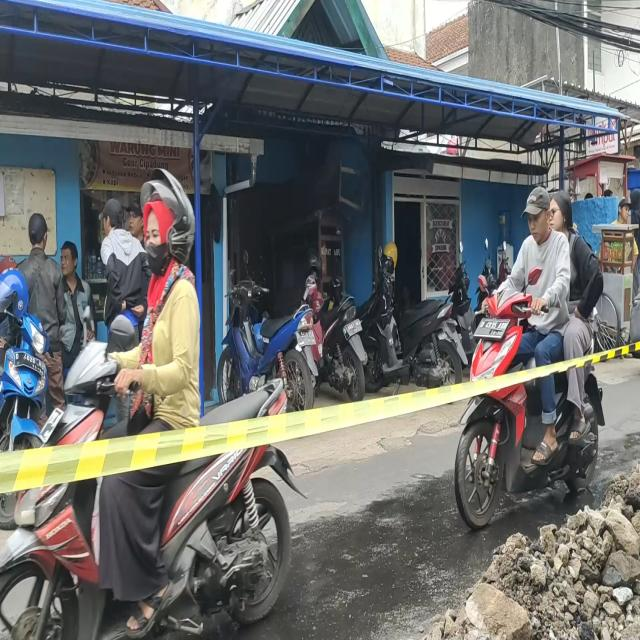helmet: (134, 174, 190, 264)
no-helmet: (520, 188, 547, 241), (550, 188, 573, 234)
